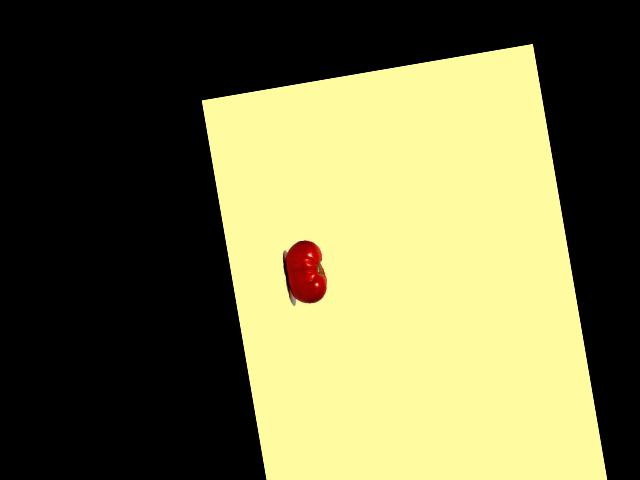tomato: (281, 237, 330, 306)
